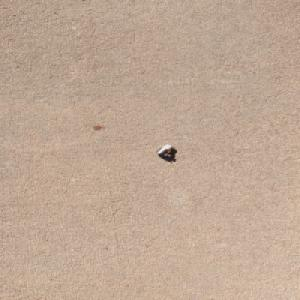MetalPart: (154, 143, 174, 158)
